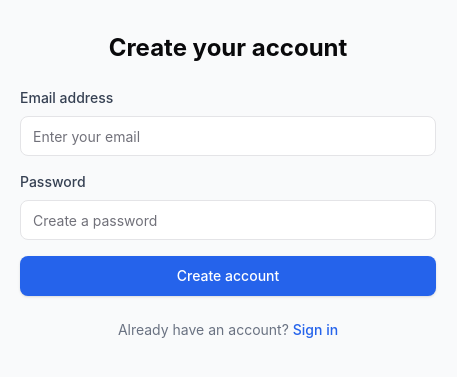
Authentication Pages › Register Page › should show error on failed registration
The width and height of the screenshot is (457, 377).
In the field labelled "Email address": (228, 136) [20, 116, 436, 156], type "test@example.com"
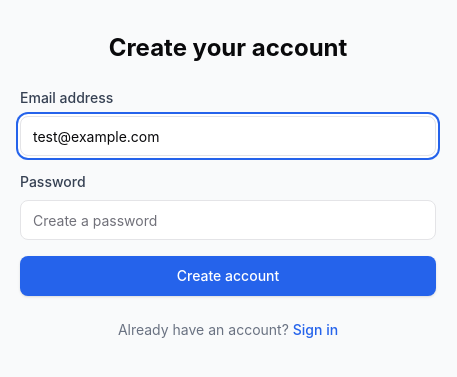
In the password field labelled "Password": (228, 220) [20, 200, 436, 240], type "password123"
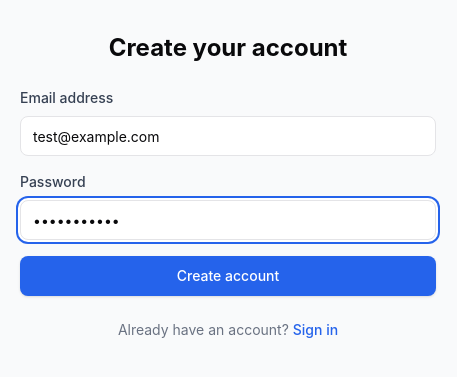
Click the button "Create account": (228, 276) [20, 256, 436, 296]
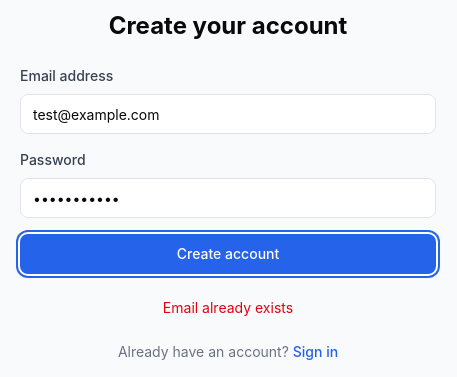
expect the text "Email already exists" is shown: met, box [163, 299, 293, 316]
